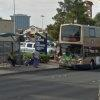Bus: (54, 19, 100, 74)
